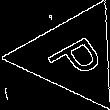P_NE: (36, 27, 107, 85)
